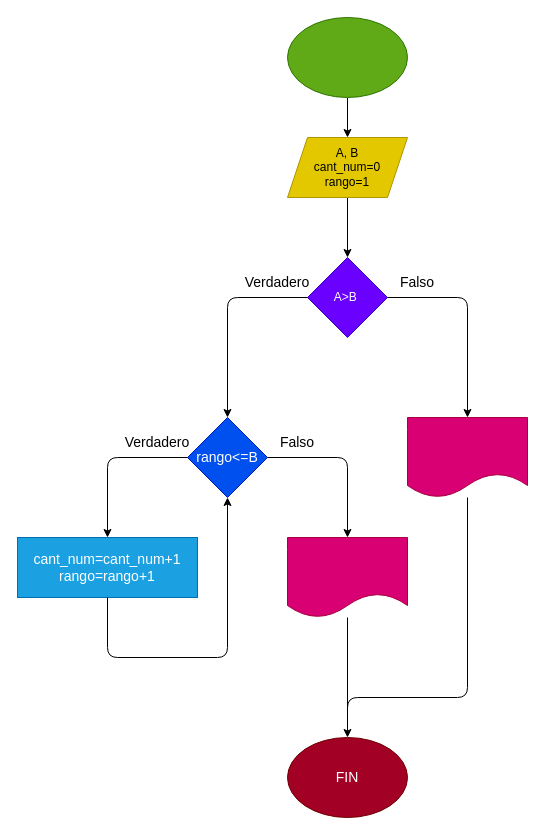
The diagram is 545 pixels wide and 835 high, and some of its shapes have lost their labels. The box of each missing label's shape, as (x1, y1, x2, y2) in pixels:
A no puede ser mayor que B: (406, 416, 528, 498)
INICIO: (286, 16, 408, 98)
rango: (286, 536, 408, 618)
